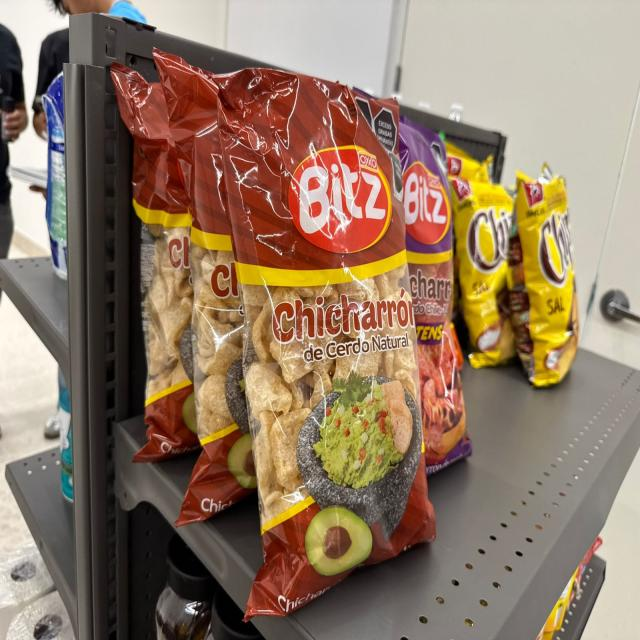Chicharron de Cerdo Natural Bitz 120 gr: (214, 69, 439, 623), (158, 50, 250, 527), (111, 70, 202, 468)
Papas Chips Barcel 170 gr bolsa con sal: (506, 177, 580, 397), (449, 180, 515, 371), (443, 142, 499, 180)
chicharrones de cerdo intenso: (397, 126, 475, 468)
